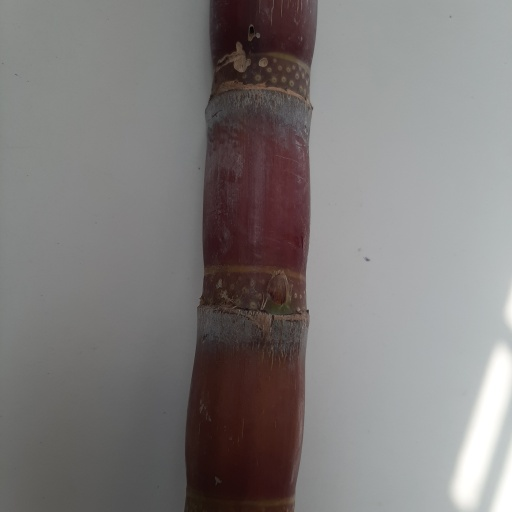Bud: (268, 268, 291, 307)
